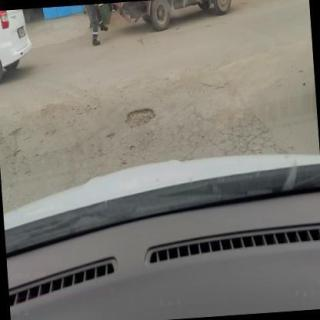pothole: (125, 108, 156, 128)
